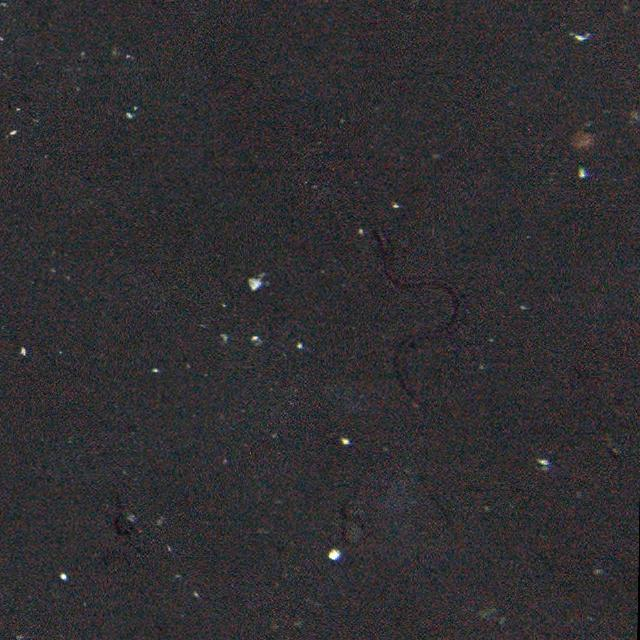eel: (371, 222, 465, 409)
